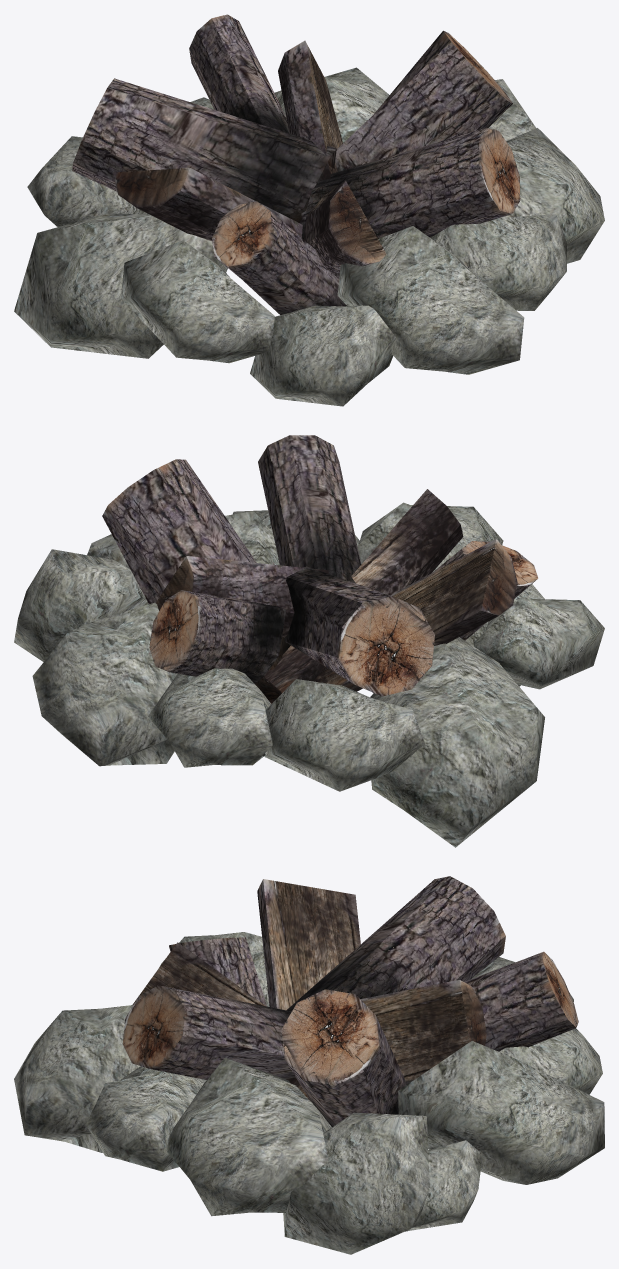
Rendered from bonfire.obj.
3 views of the same model, one above another, from view 1: azimuth 30°, elevation 25°; view 2: azimuth 150°, elevation 25°; view 3: azimuth 270°, elevation 25° (orthographic).
Parts seen in each view (by area): view 1: pCylinder1, pCube3, pCube10, pCylinder3, pCube11, pCylinder7, pCube4, pCylinder8, pCube1, pCube2, pCylinder2, pCylinder5 (+5 smaller); view 2: pCube10, pCube9 polySurface2, pCylinder1, pCube9 polySurface4, pCylinder7, pCylinder3, pCylinder2, pCube9 polySurface3, pCube9 polySurface5, pCube11, pCylinder5, pCylinder4 (+4 smaller); view 3: pCube9 polySurface2, pCube2, pCube9 polySurface5, pCylinder1, pCylinder3, pCylinder7, pCube3, pCylinder5, pCube1, pCylinder6, pCylinder2, polySurface1 pCube9 (+4 smaller).
Boxes of the visible parts, bbox=[...] form: pCylinder1: bbox=[72, 78, 336, 222]; pCube3: bbox=[337, 226, 524, 374]; pCube10: bbox=[14, 213, 227, 358]; pCylinder3: bbox=[299, 127, 520, 238]; pCube11: bbox=[121, 240, 274, 363]; pCylinder7: bbox=[335, 30, 512, 171]; pCube4: bbox=[250, 305, 395, 406]; pCylinder8: bbox=[212, 201, 346, 314]; pCube1: bbox=[430, 214, 566, 310]; pCube2: bbox=[501, 128, 604, 263]; pCylinder2: bbox=[189, 14, 289, 133]; pCylinder5: bbox=[112, 168, 302, 241]; pCube10: bbox=[370, 637, 544, 847]; pCube9 polySurface2: bbox=[32, 602, 177, 766]; pCylinder1: bbox=[285, 566, 434, 696]; pCube9 polySurface4: bbox=[264, 679, 424, 791]; pCylinder7: bbox=[102, 459, 290, 700]; pCylinder3: bbox=[258, 435, 361, 583]; pCylinder2: bbox=[149, 590, 286, 683]; pCube9 polySurface3: bbox=[148, 668, 272, 767]; pCube9 polySurface5: bbox=[14, 549, 148, 661]; pCube11: bbox=[473, 596, 604, 689]; pCylinder5: bbox=[314, 539, 517, 691]; pCylinder4: bbox=[264, 489, 463, 703]; pCube9 polySurface2: bbox=[398, 1041, 604, 1184]; pCube2: bbox=[167, 1057, 331, 1216]; pCube9 polySurface5: bbox=[283, 1112, 429, 1254]; pCylinder1: bbox=[286, 876, 505, 1011]; pCylinder3: bbox=[122, 985, 295, 1079]; pCylinder7: bbox=[281, 989, 407, 1126]; pCube3: bbox=[14, 1005, 140, 1152]; pCylinder5: bbox=[257, 879, 360, 1010]; pCube1: bbox=[86, 1066, 206, 1171]; pCylinder6: bbox=[286, 980, 486, 1100]; pCylinder2: bbox=[406, 951, 578, 1084]; polySurface1 pCube9: bbox=[405, 1140, 482, 1231].
Size of the model in its own units: 15 by 7.42 by 15.08.
